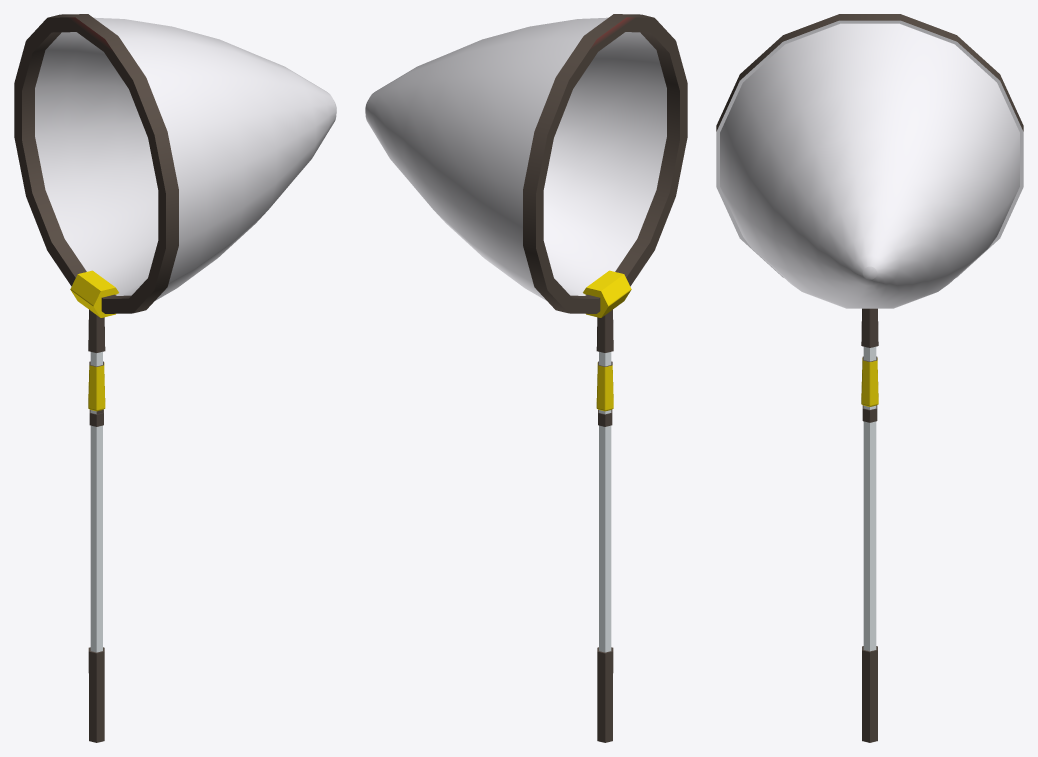
File: SM_Net.fbx
The picture shows the model from 3 angles, left to right: view 1: azimuth 30°, elevation 25°; view 2: azimuth 150°, elevation 25°; view 3: azimuth 270°, elevation 25°; orthographic projection.
Parts seen in each view (by area): view 1: polySurface8; view 2: polySurface8; view 3: polySurface8.
Part boxes in pixels (box(x1,y1,x2,y2)): polySurface8: box(14, 14, 336, 742); polySurface8: box(365, 14, 687, 742); polySurface8: box(716, 14, 1023, 742).
Bounding box in the file's own units: 41.26 × 111 × 42.66.
